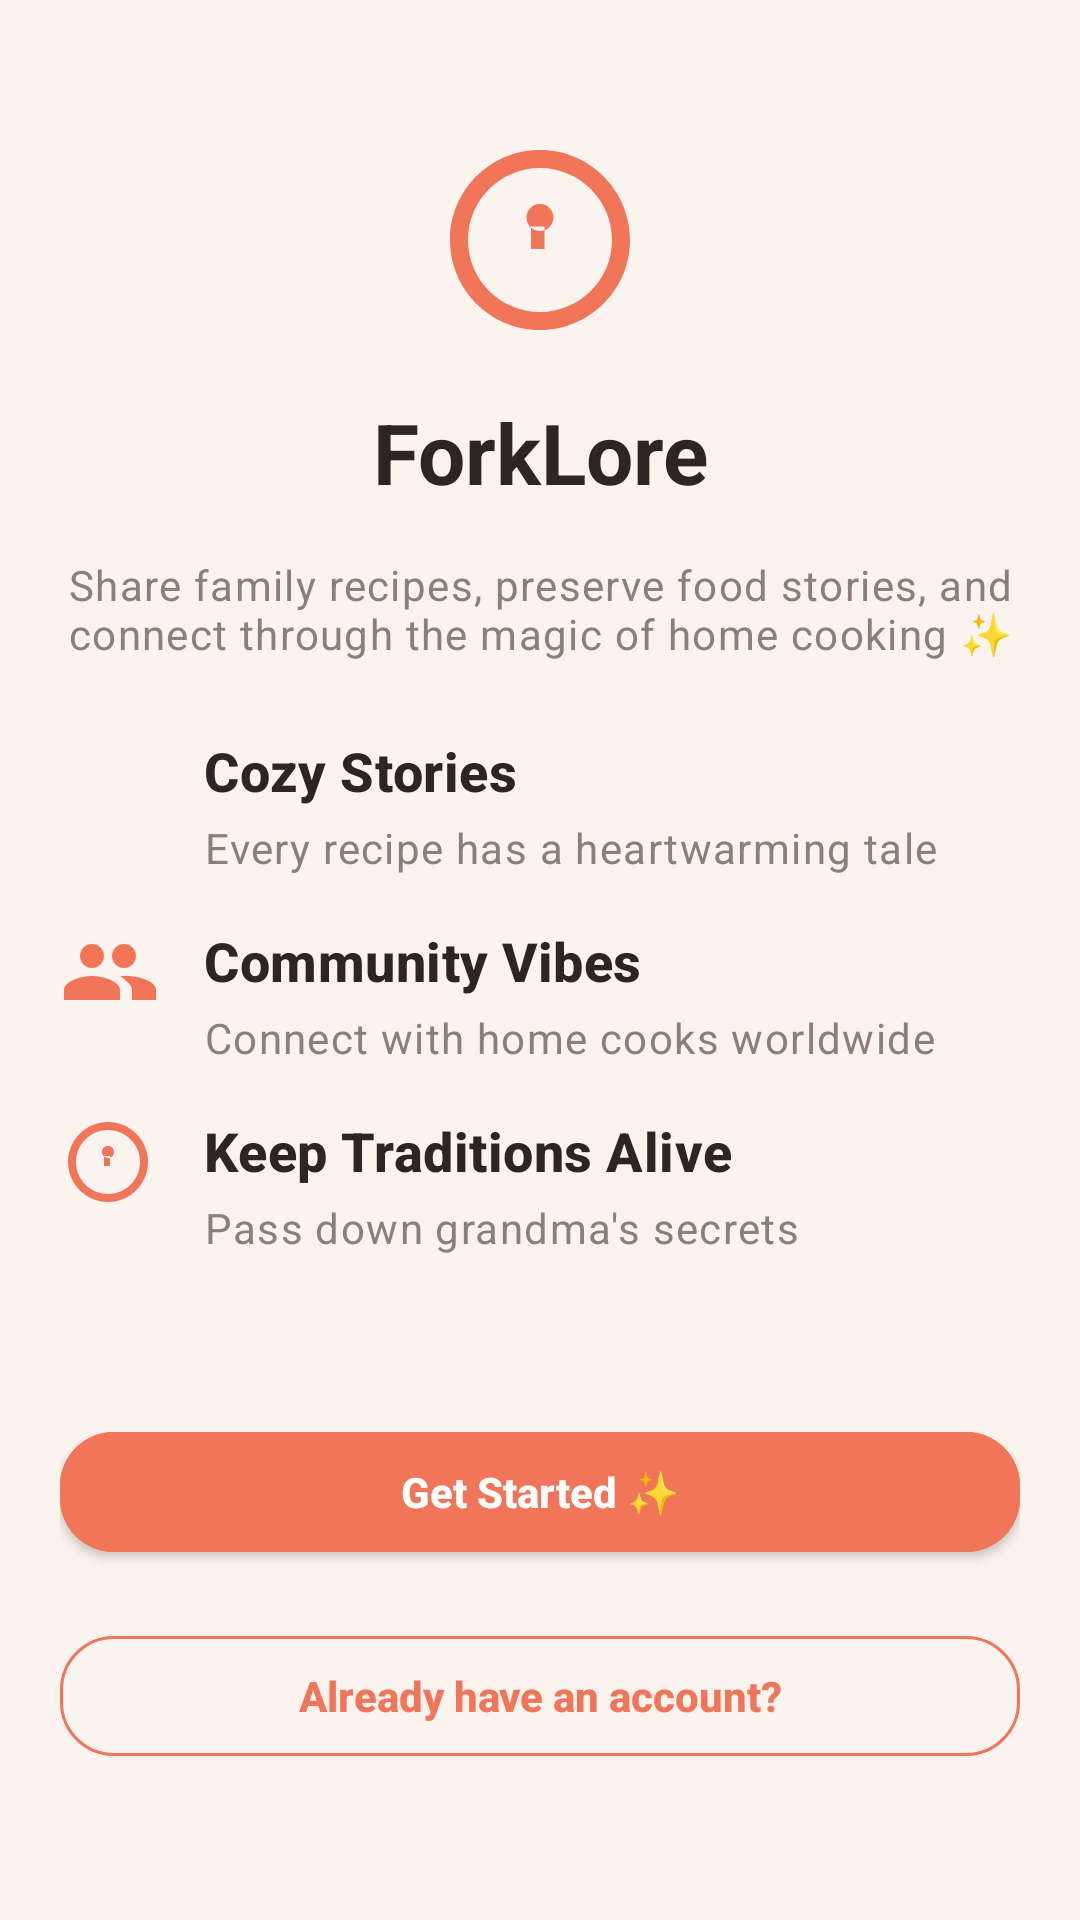

Icon click points for this 1080*1920 phone screenshot, format [x,y]:
people: [110,972]
